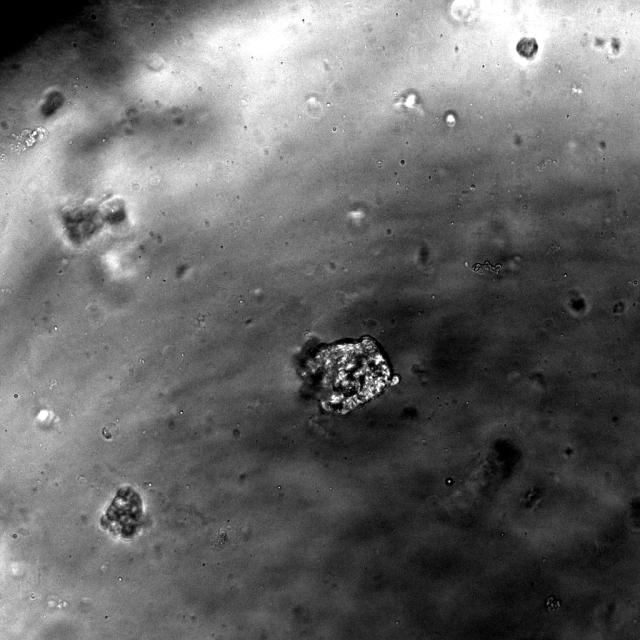organoid: (296, 335, 399, 415), (61, 197, 127, 244), (101, 487, 142, 537), (40, 90, 64, 116), (516, 37, 538, 59)
